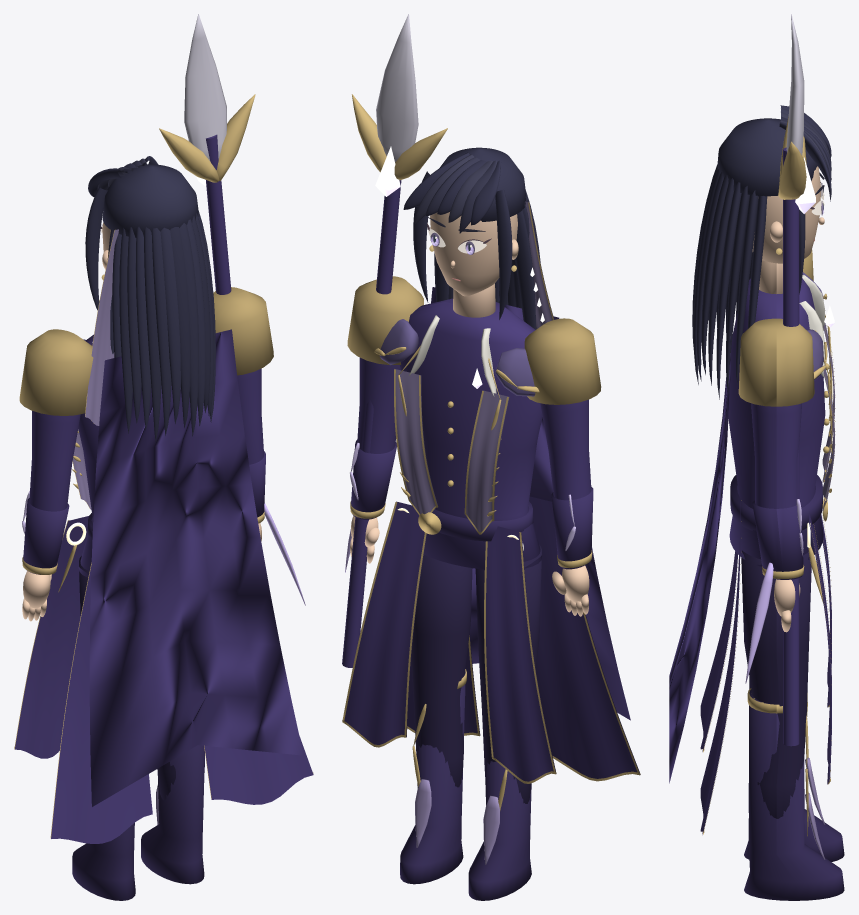
The model's file is character_07.glb.
The picture shows the model from 3 angles, left to right: view 1: azimuth 30°, elevation 25°; view 2: azimuth 150°, elevation 25°; view 3: azimuth 270°, elevation 25°; orthographic projection. The views are drawn at different scales.
Visible parts, largest first — view 1: _MeshInstance3D_2168, _MeshInstance3D_2206, _MeshInstance3D_2153, _MeshInstance3D_2151, _MeshInstance3D_2208, _MeshInstance3D_2207, _MeshInstance3D_2180, _MeshInstance3D_2175, _MeshInstance3D_2157, _MeshInstance3D_2173, _MeshInstance3D_2183, _MeshInstance3D_2187 (+9 smaller); view 2: _MeshInstance3D_2147, _MeshInstance3D_2153, _MeshInstance3D_2151, _MeshInstance3D_2155, _MeshInstance3D_2179, _MeshInstance3D_2206, _MeshInstance3D_2183, _MeshInstance3D_2180, _MeshInstance3D_2175, _MeshInstance3D_2170, _MeshInstance3D_2168, _MeshInstance3D_2193 (+27 smaller); view 3: _MeshInstance3D_2206, _MeshInstance3D_2180, _MeshInstance3D_2183, _MeshInstance3D_2179, _MeshInstance3D_2147, _MeshInstance3D_2168, _MeshInstance3D_2185, _MeshInstance3D_2207, _MeshInstance3D_2208, _MeshInstance3D_2184, _MeshInstance3D_2157, _MeshInstance3D_2193 (+16 smaller).
Boxes of the visible parts, x1,y1,x2,y2 form: _MeshInstance3D_2168: (89, 329, 303, 806); _MeshInstance3D_2206: (85, 156, 215, 429); _MeshInstance3D_2153: (51, 565, 152, 843); _MeshInstance3D_2151: (15, 516, 88, 758); _MeshInstance3D_2208: (119, 211, 210, 441); _MeshInstance3D_2207: (107, 213, 214, 436); _MeshInstance3D_2180: (141, 745, 204, 884); _MeshInstance3D_2175: (19, 329, 93, 415); _MeshInstance3D_2157: (204, 736, 313, 804); _MeshInstance3D_2173: (27, 411, 80, 574); _MeshInstance3D_2183: (206, 134, 263, 464); _MeshInstance3D_2187: (184, 14, 226, 160); _MeshInstance3D_2147: (400, 298, 542, 569); _MeshInstance3D_2153: (529, 496, 640, 778); _MeshInstance3D_2151: (486, 526, 556, 781); _MeshInstance3D_2155: (344, 501, 426, 744); _MeshInstance3D_2179: (411, 555, 472, 787); _MeshInstance3D_2206: (403, 147, 529, 319); _MeshInstance3D_2183: (342, 180, 401, 667); _MeshInstance3D_2180: (400, 672, 465, 884); _MeshInstance3D_2175: (524, 318, 601, 404); _MeshInstance3D_2170: (468, 761, 531, 900); _MeshInstance3D_2168: (431, 287, 630, 720); _MeshInstance3D_2193: (430, 212, 518, 296); _MeshInstance3D_2206: (696, 105, 831, 399); _MeshInstance3D_2180: (744, 689, 844, 900); _MeshInstance3D_2183: (751, 147, 802, 746); _MeshInstance3D_2179: (741, 550, 811, 818); _MeshInstance3D_2147: (728, 278, 825, 566); _MeshInstance3D_2168: (669, 318, 731, 783); _MeshInstance3D_2185: (738, 318, 814, 406); _MeshInstance3D_2207: (693, 169, 758, 385); _MeshInstance3D_2208: (692, 166, 749, 393); _MeshInstance3D_2184: (752, 500, 803, 571); _MeshInstance3D_2157: (700, 502, 740, 834); _MeshInstance3D_2193: (752, 166, 824, 263).
Bounding box in the file's own units: 1.03 × 3.02 × 0.539.
